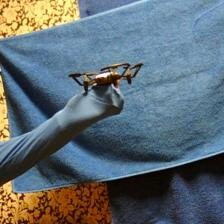drone: (69, 61, 143, 92)
